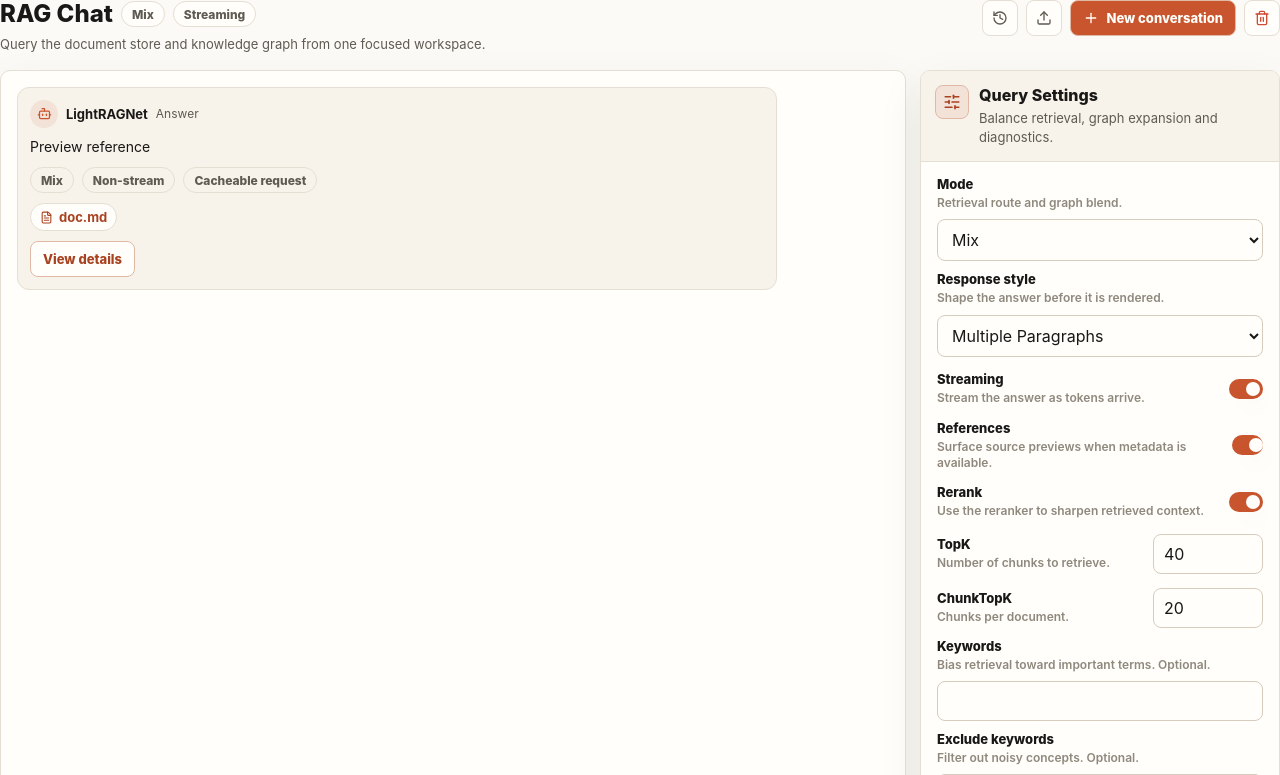
Test case: RagChatWorkbench › loads retrieval data after StrictMode remounts query details effects
This screenshot has width=1280, height=775.
Click the button "View details".
click(82, 259)  # box [30,241,135,277]
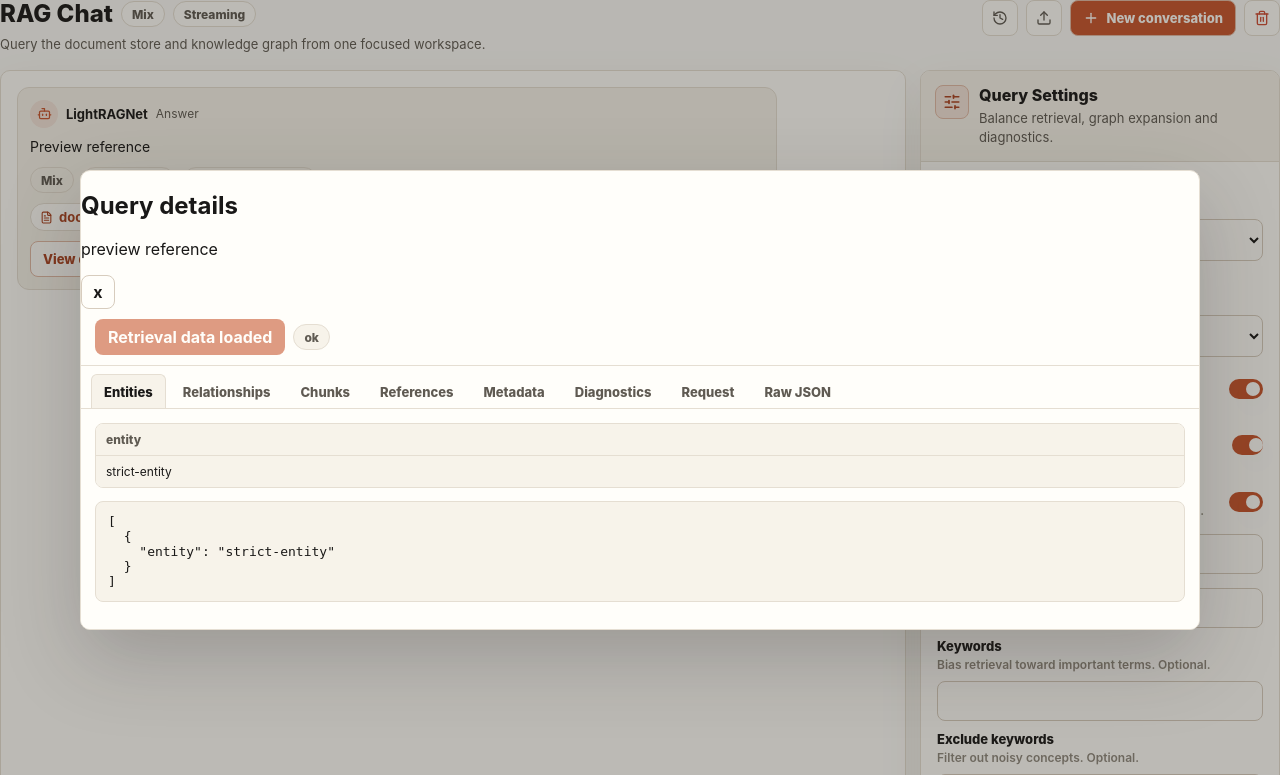
Result: the text "strict-entity" is shown at [96,456,1184,487]
Result: the text "Retrieval data loaded" is shown at [95,319,285,355]
